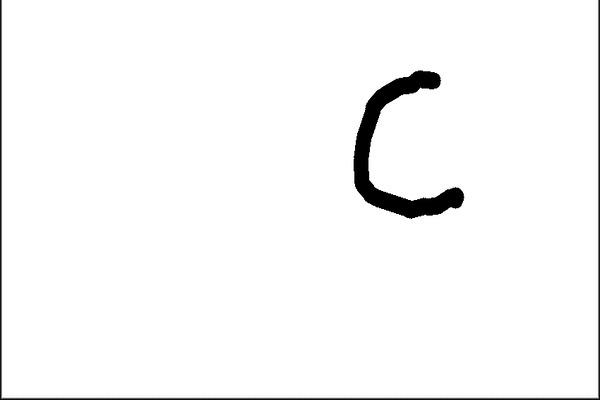C: (344, 64, 474, 221)
